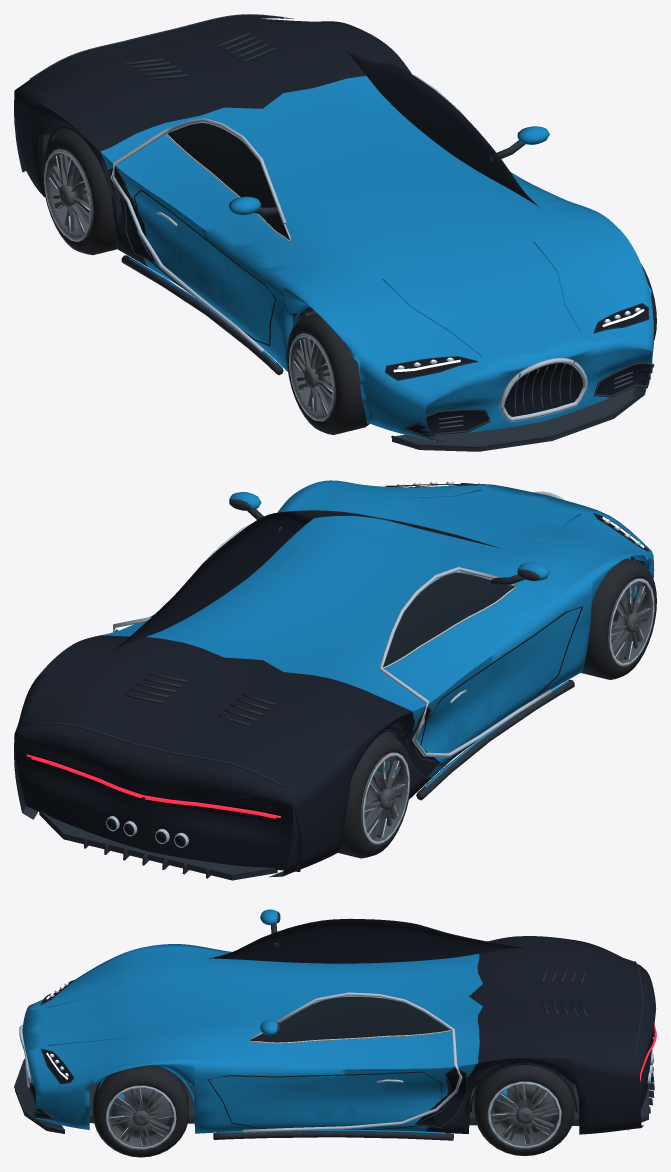
Rendered from Bugatti.glb.
3 views of the same model, one above another, from view 1: azimuth 30°, elevation 25°; view 2: azimuth 150°, elevation 25°; view 3: azimuth 270°, elevation 25° (orthographic). The views are drawn at different scales.
Visible parts, largest first — view 1: Bugatti_Body, Wheel_Front_L, Wheel_Rear_L; view 2: Bugatti_Body, Wheel_Front_L, Wheel_Rear_L; view 3: Bugatti_Body, Wheel_Rear_R, Wheel_Front_R.
Boxes of the visible parts, box(x1,y1,x2,y2) form: Bugatti_Body: box(14, 14, 654, 451); Wheel_Front_L: box(286, 313, 369, 434); Wheel_Rear_L: box(42, 129, 116, 255); Bugatti_Body: box(14, 480, 654, 880); Wheel_Front_L: box(581, 558, 656, 679); Wheel_Rear_L: box(338, 732, 411, 858); Bugatti_Body: box(14, 909, 656, 1140); Wheel_Rear_R: box(474, 1064, 574, 1155); Wheel_Front_R: box(93, 1065, 188, 1157).
Bounding box in the file's own units: 2.1 × 1.21 × 4.54.
